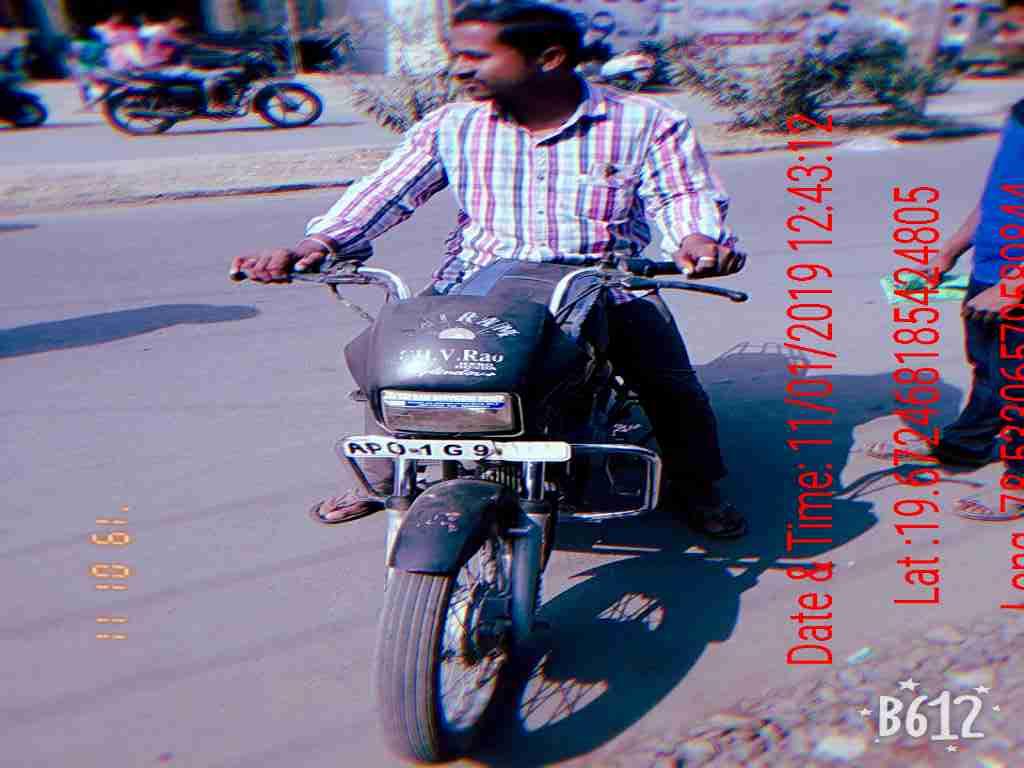plate: (333, 425, 581, 469)
